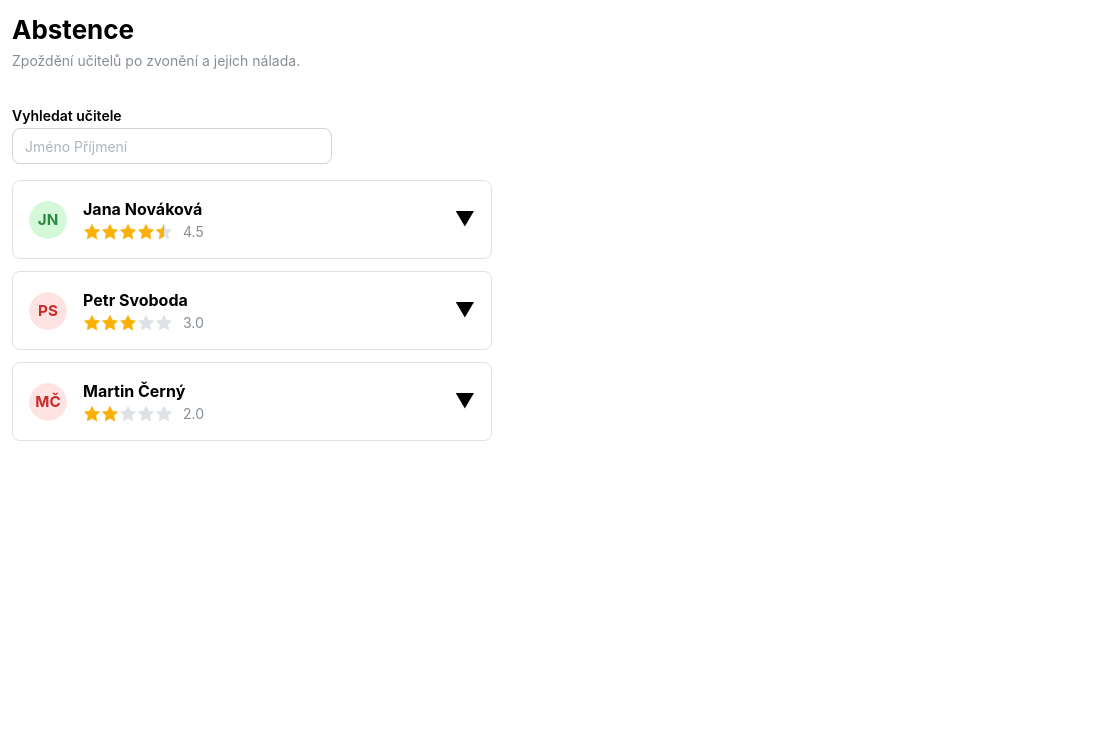
AbstencePage oproti návrhu › detail: záložky Zobrazit/Hodnotit z designu, Zobrazit ukazuje dnešní zpoždění a metr jen pro čtení
This screenshot has width=1101, height=733.
What coordinates should you click on to do the following:
click the text "Petr Svoboda"
I would click on:
 (135, 301)
Its box is left=83, top=288, right=188, bottom=313.
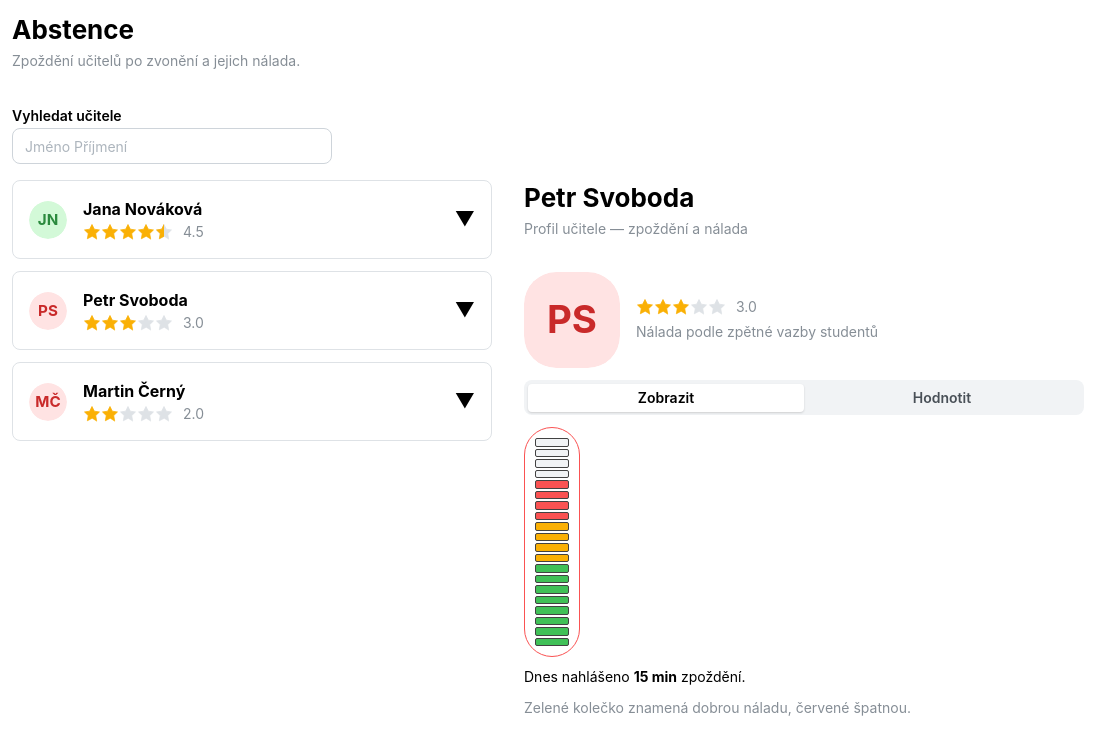
Expected: the text "Profil učitele — zpoždění a nálada" is shown, left=524, top=220, right=748, bottom=237
Expected: the radio button labelled "Zobrazit" is shown, left=638, top=389, right=694, bottom=406
Expected: the radio button labelled "Hodnotit" is shown, left=913, top=389, right=971, bottom=406
